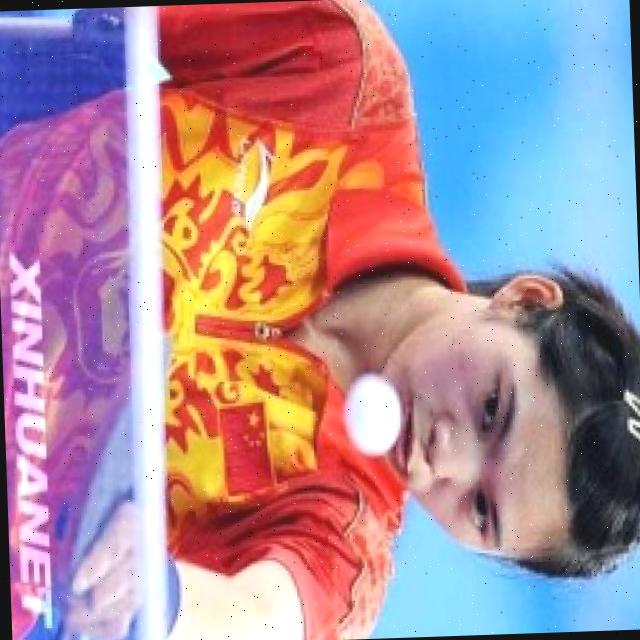ping-pong-ball: (340, 374, 402, 456)
